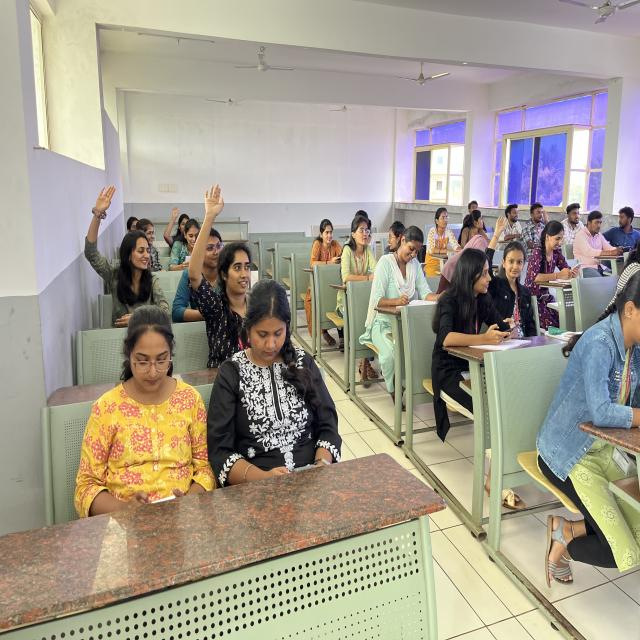Hand Rising: (187, 178, 257, 364), (77, 180, 152, 320), (478, 208, 533, 325)
Reading: (167, 218, 201, 276)
Using Phone: (72, 297, 218, 513), (206, 274, 349, 484), (428, 243, 525, 403), (524, 217, 584, 299), (574, 209, 634, 273), (308, 217, 346, 280)
Writing: (366, 222, 439, 346), (340, 213, 380, 295)
